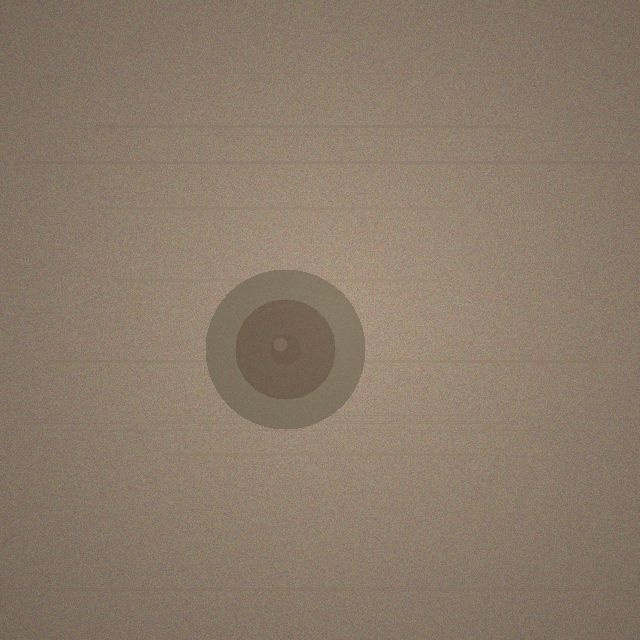good: (205, 269, 365, 429)
